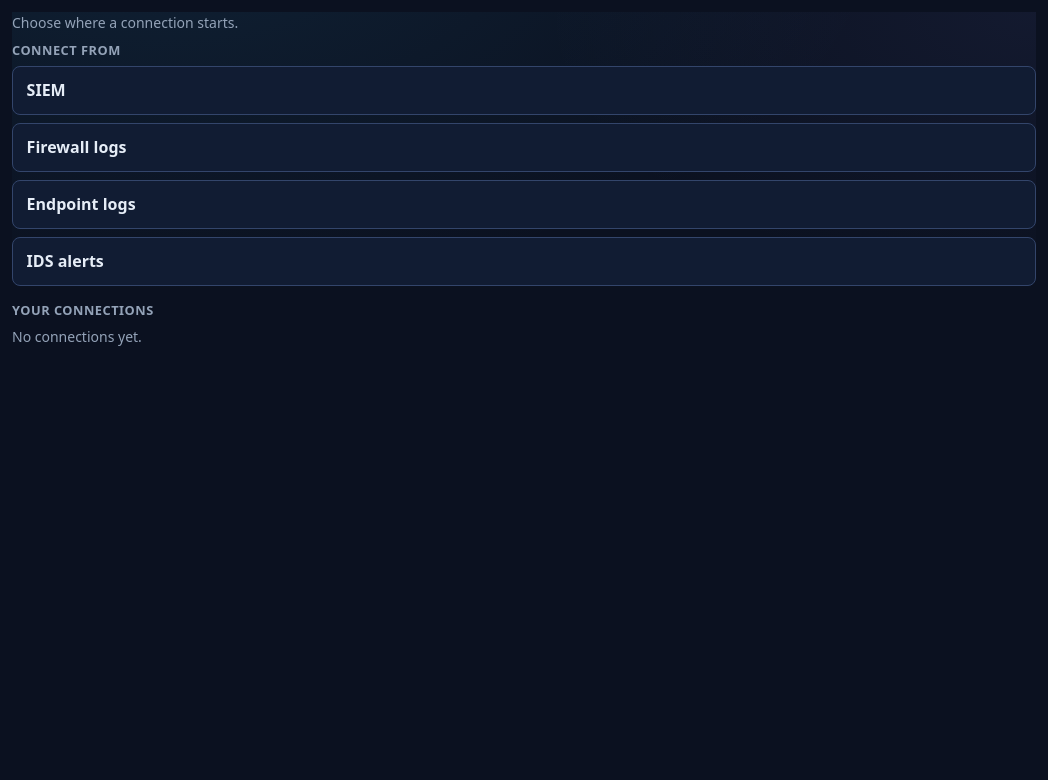
Test: MobileNodeConnection › supports multiple outgoing edges from one source
// The source resets after each relationship, so it is reselected each time.
Click the button "SIEM".
click(46, 90)  # box left=12, top=66, right=1036, bottom=115
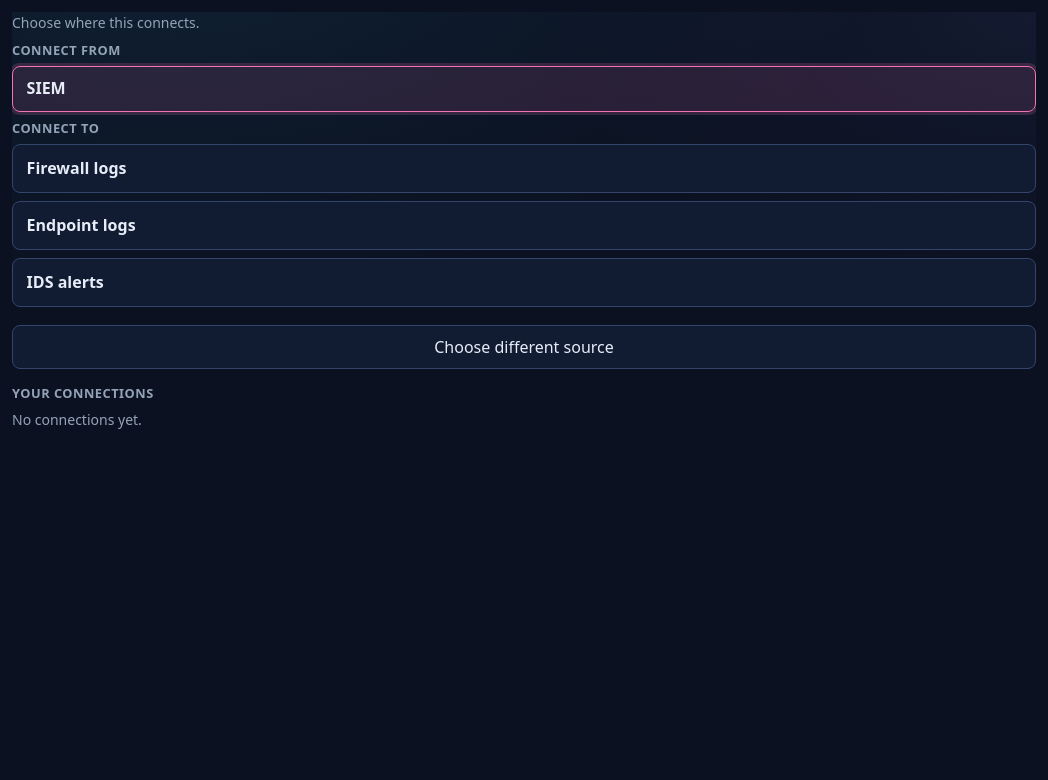
Click the button "Firewall logs".
click(77, 168)  # box left=12, top=144, right=1036, bottom=193
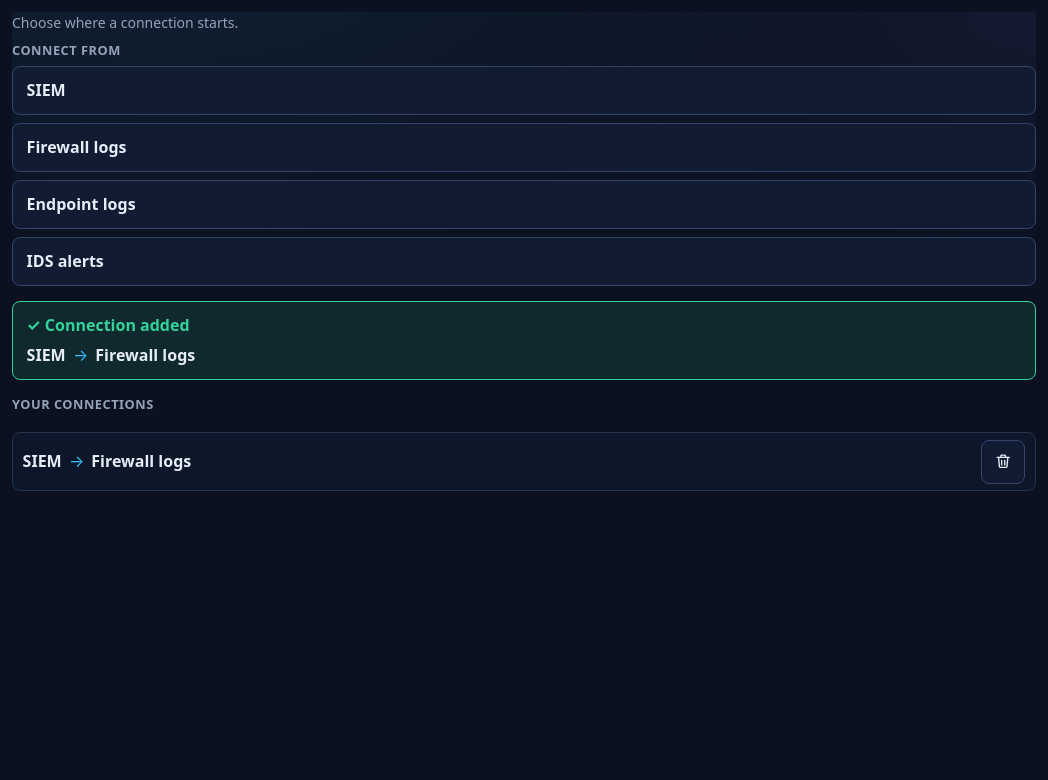
Click the button "SIEM".
click(46, 90)  # box left=12, top=66, right=1036, bottom=115
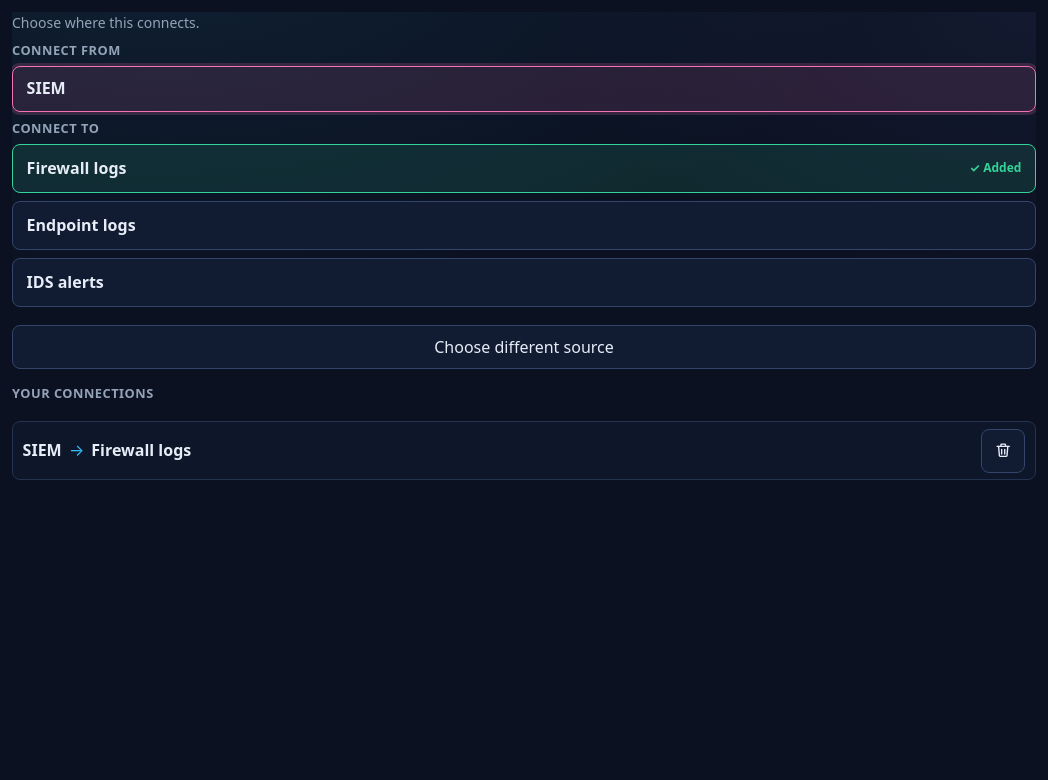
Click the button "Endpoint logs".
click(81, 225)  # box left=12, top=201, right=1036, bottom=250
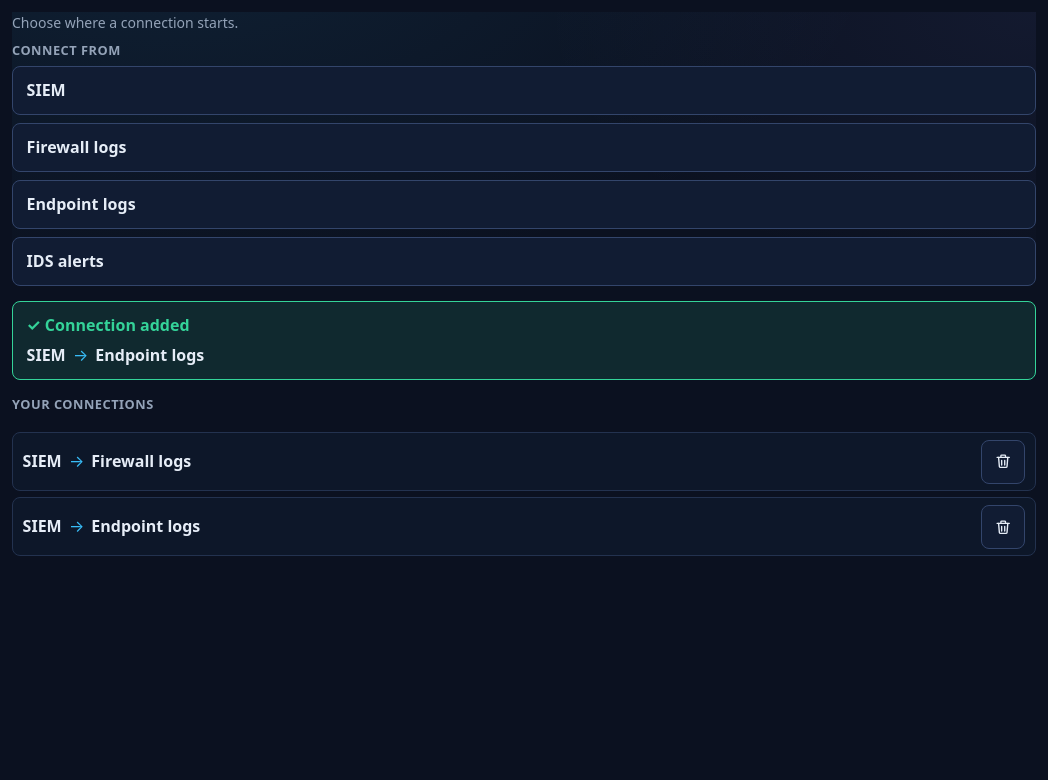
Click the button "SIEM".
click(46, 90)  # box left=12, top=66, right=1036, bottom=115
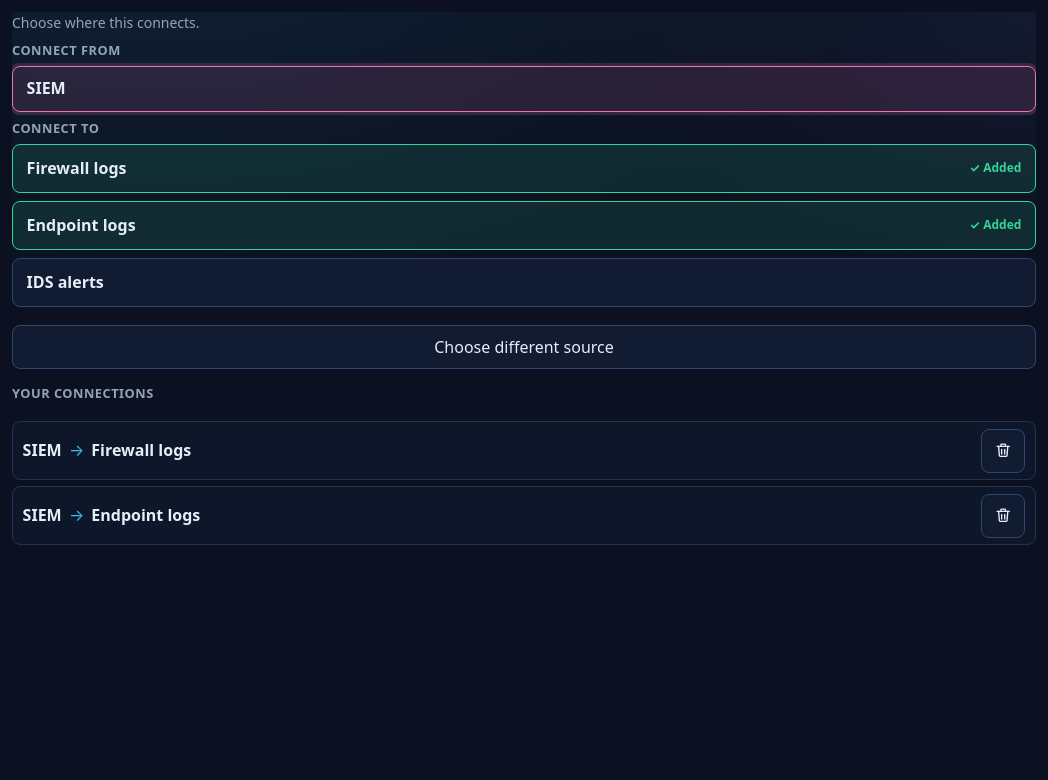
Click the button "IDS alerts".
click(65, 282)  # box left=12, top=258, right=1036, bottom=307
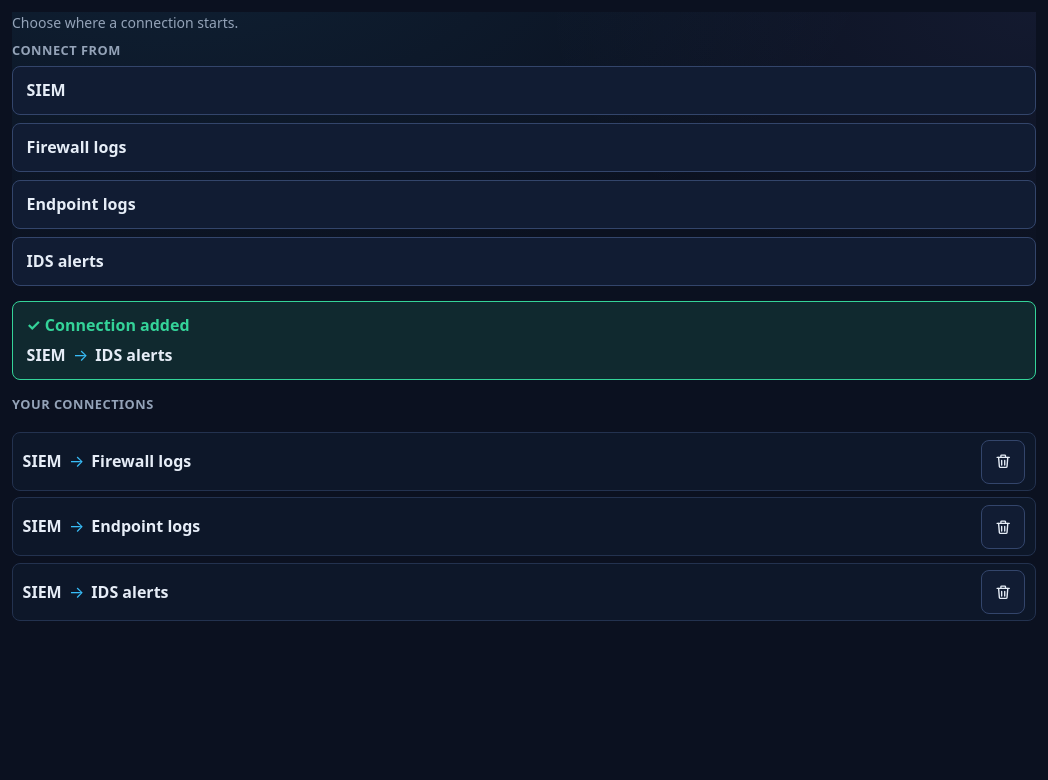
Expected: the list named "Your connections" shows "Firewall logs", left=91, top=450, right=191, bottom=472
Expected: the list named "Your connections" shows "Endpoint logs", left=91, top=516, right=200, bottom=538
Expected: the list named "Your connections" shows "IDS alerts", left=91, top=581, right=168, bottom=603
